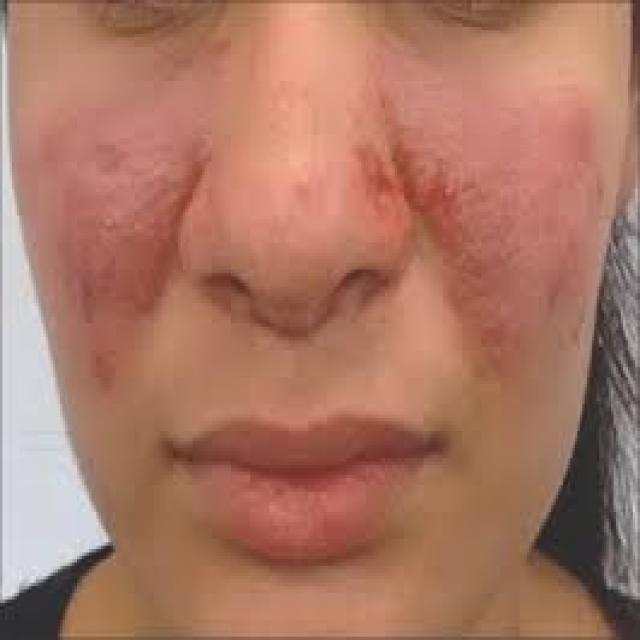Rosacea: (365, 130, 519, 284), (93, 162, 189, 282)
